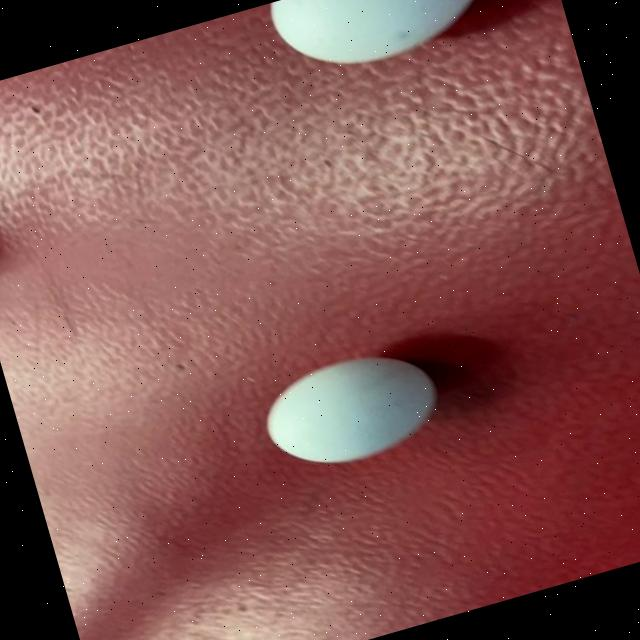ping-pong-ball: (209, 311, 502, 497), (216, 0, 539, 109)
